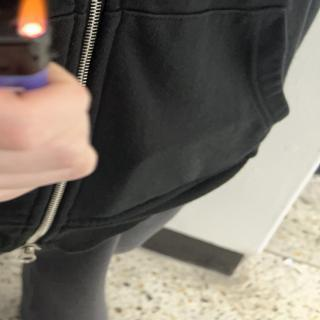fire: (17, 0, 47, 34)
